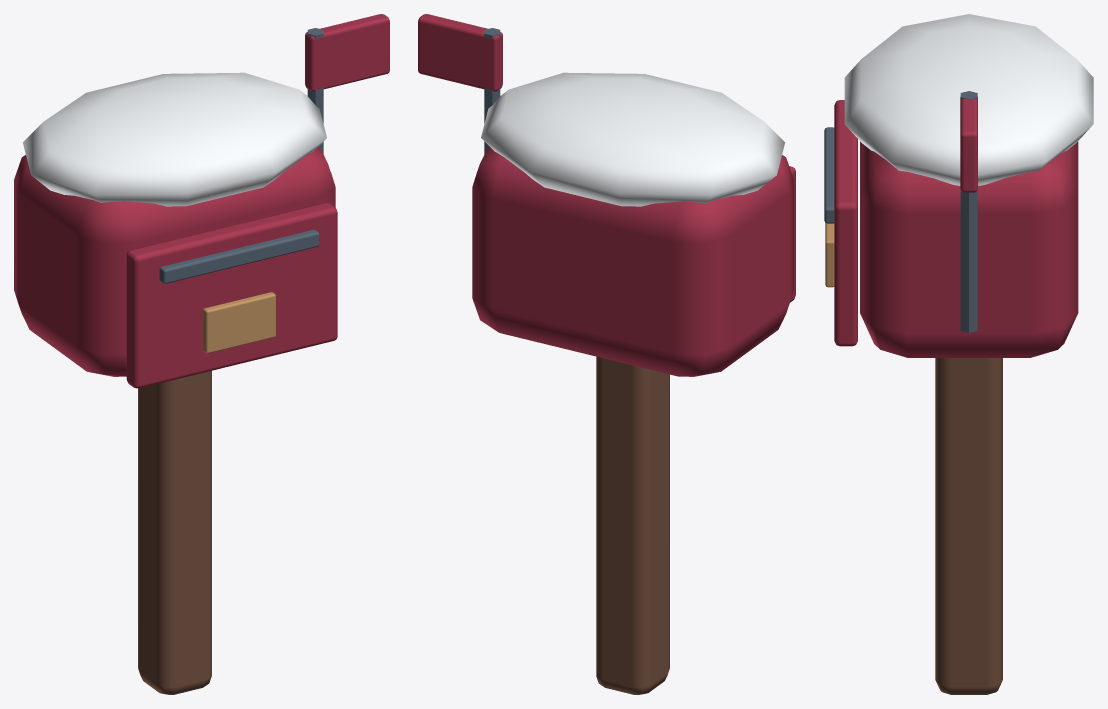
The model's file is alpine-snow-village-rounded-village-postbox-cea2c2d6__19809.glb.
The picture shows the model from 3 angles, left to right: view 1: azimuth 30°, elevation 25°; view 2: azimuth 150°, elevation 25°; view 3: azimuth 270°, elevation 25°; orthographic projection. The views are drawn at different scales.
Visible parts, largest first — view 1: rounded-village-postbox-berry, rounded-village-postbox-snow, rounded-village-postbox-wood, rounded-village-postbox-iron, rounded-village-postbox-oak; view 2: rounded-village-postbox-berry, rounded-village-postbox-snow, rounded-village-postbox-wood; view 3: rounded-village-postbox-berry, rounded-village-postbox-snow, rounded-village-postbox-wood, rounded-village-postbox-iron, rounded-village-postbox-oak.
Boxes of the visible parts, bbox=[...] form: rounded-village-postbox-berry: bbox=[14, 14, 389, 388]; rounded-village-postbox-snow: bbox=[23, 72, 326, 206]; rounded-village-postbox-wood: bbox=[138, 370, 211, 694]; rounded-village-postbox-iron: bbox=[159, 28, 323, 283]; rounded-village-postbox-oak: bbox=[203, 292, 275, 353]; rounded-village-postbox-berry: bbox=[418, 14, 795, 376]; rounded-village-postbox-snow: bbox=[481, 72, 785, 206]; rounded-village-postbox-wood: bbox=[596, 356, 669, 694]; rounded-village-postbox-berry: bbox=[834, 97, 1078, 357]; rounded-village-postbox-snow: bbox=[844, 14, 1093, 185]; rounded-village-postbox-wood: bbox=[935, 358, 1002, 694]; rounded-village-postbox-iron: bbox=[824, 91, 977, 332]; rounded-village-postbox-oak: bbox=[825, 223, 834, 287].
Size of the model in its own units: 1.12 by 1.85 by 0.6789.
